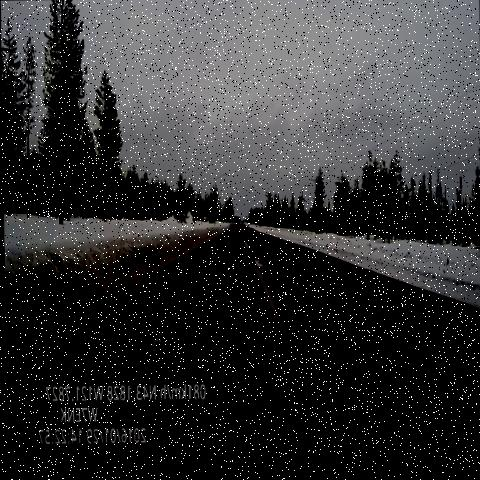pothole: (243, 241, 267, 276)
